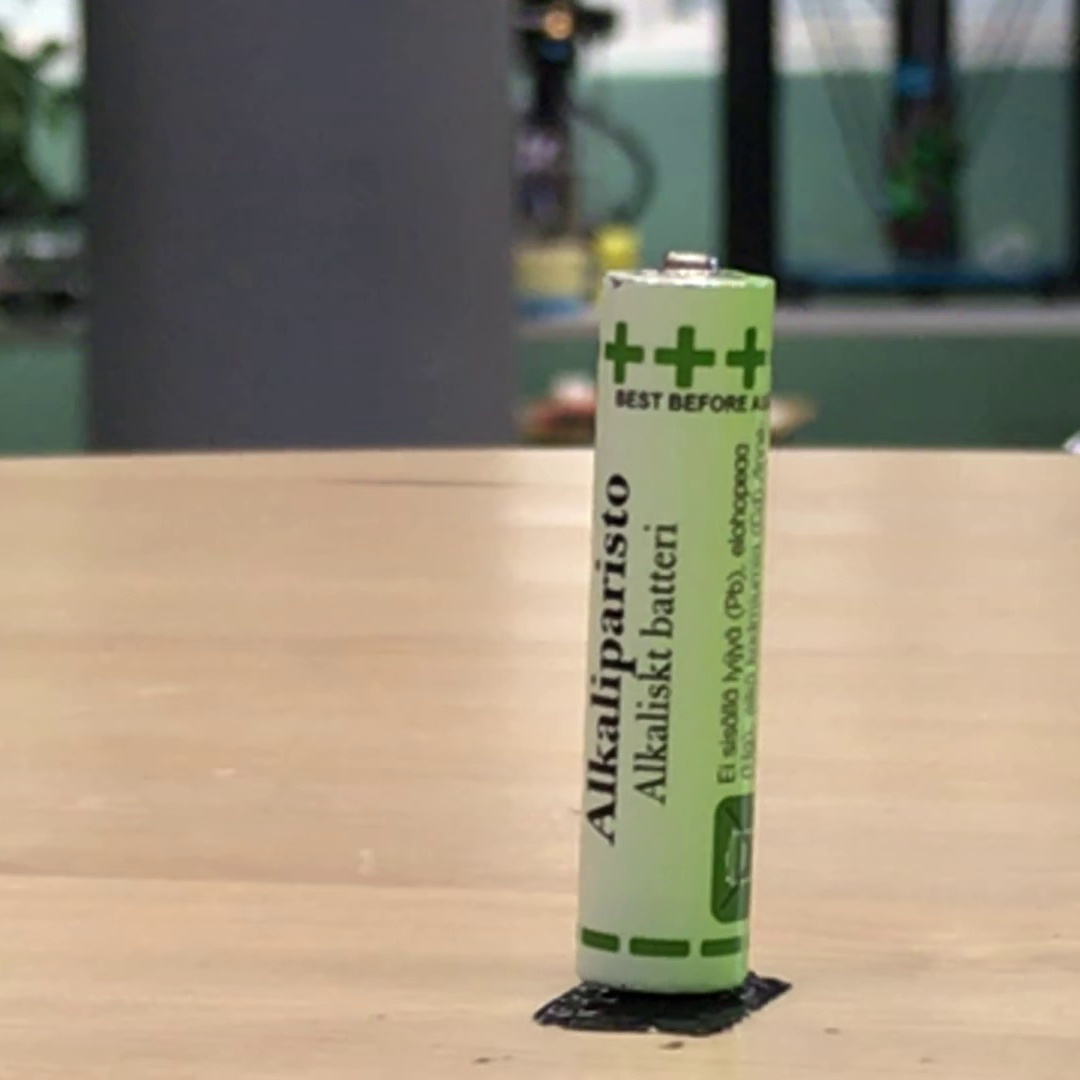keyword: (623, 754, 677, 814)
